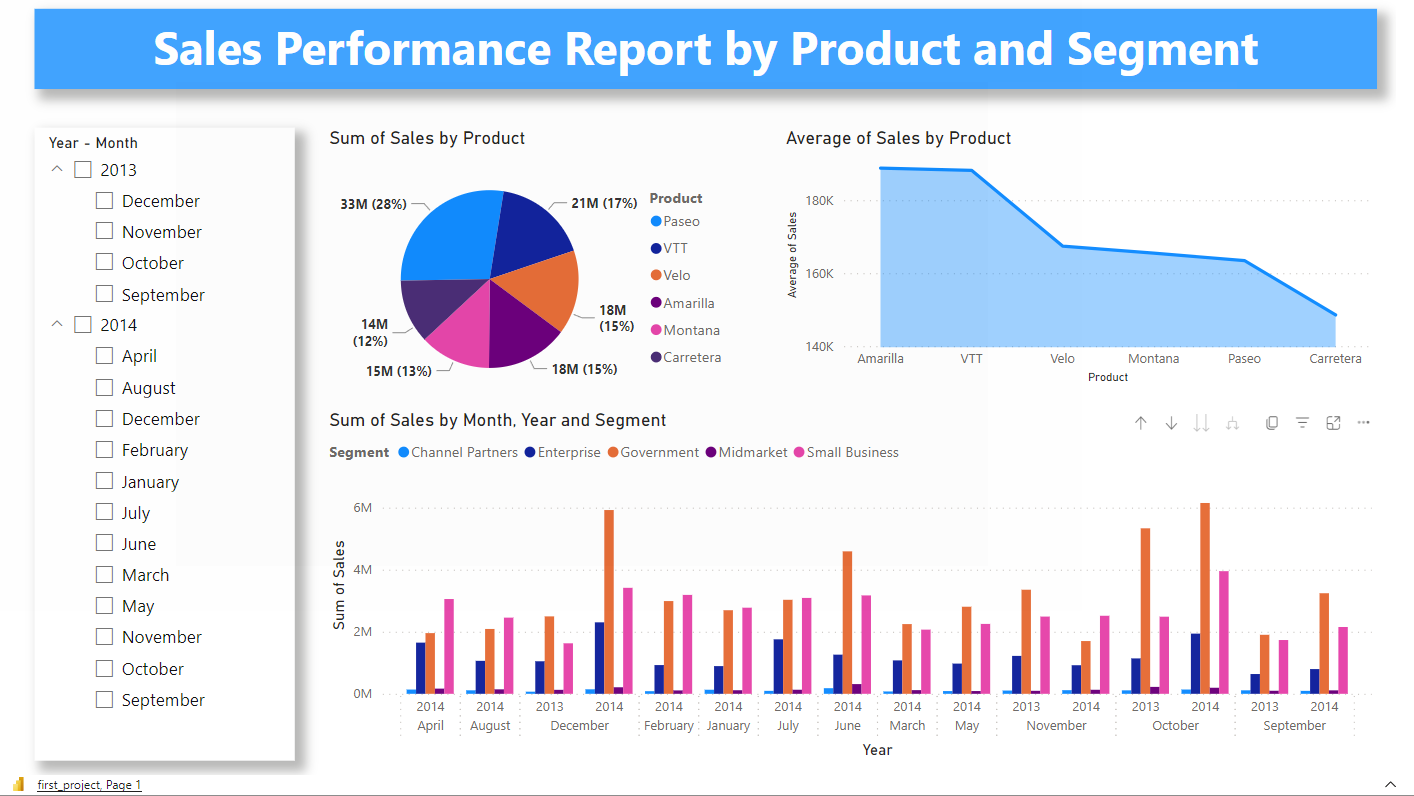

What the dashboard file says about the page in this screenshot:
{"tool":"powerbi","page":{"name":"Page 1","canvas":[1280,720],"ordinal":0},"visuals":[{"type":"pieChart","fields":{"Y":["Sum(financials. Sales)"],"Category":["financials.Product"]},"box":[284.3,118.6,384.3,261.4],"z":0},{"type":"textbox","box":[15.7,8.6,1247.1,74.3],"z":1000},{"type":"slicer","fields":{"Values":["financials.Year","financials.Month Name"]},"box":[15.7,118.6,241.4,588.6],"z":2000},{"type":"stackedAreaChart","fields":{"Y":["Avg(financials. Sales)"],"Category":["financials.Product"]},"box":[708.6,118.6,554.3,241.4],"z":3000},{"type":"clusteredColumnChart","fields":{"Y":["Sum(financials. Sales)"],"Series":["financials.Segment"],"Category":["financials.Month Name","financials.Year"]},"box":[284.3,380,978.6,328.6],"z":4000}]}

Visuals, with their boxes on the page's 1280x720 design canvas (x1, y1, x2, y2). These are canvas units, not pixel positions in the 1414x796 screenshot, which may show the page scaled, cropped or inside an application window:
pieChart - Sum(financials. Sales) x financials.Product: rect(284, 119, 669, 380)
textbox: rect(16, 9, 1263, 83)
slicer - financials.Year x financials.Month Name: rect(16, 119, 257, 707)
stackedAreaChart - Avg(financials. Sales) x financials.Product: rect(709, 119, 1263, 360)
clusteredColumnChart - Sum(financials. Sales) x financials.Segment: rect(284, 380, 1263, 709)
